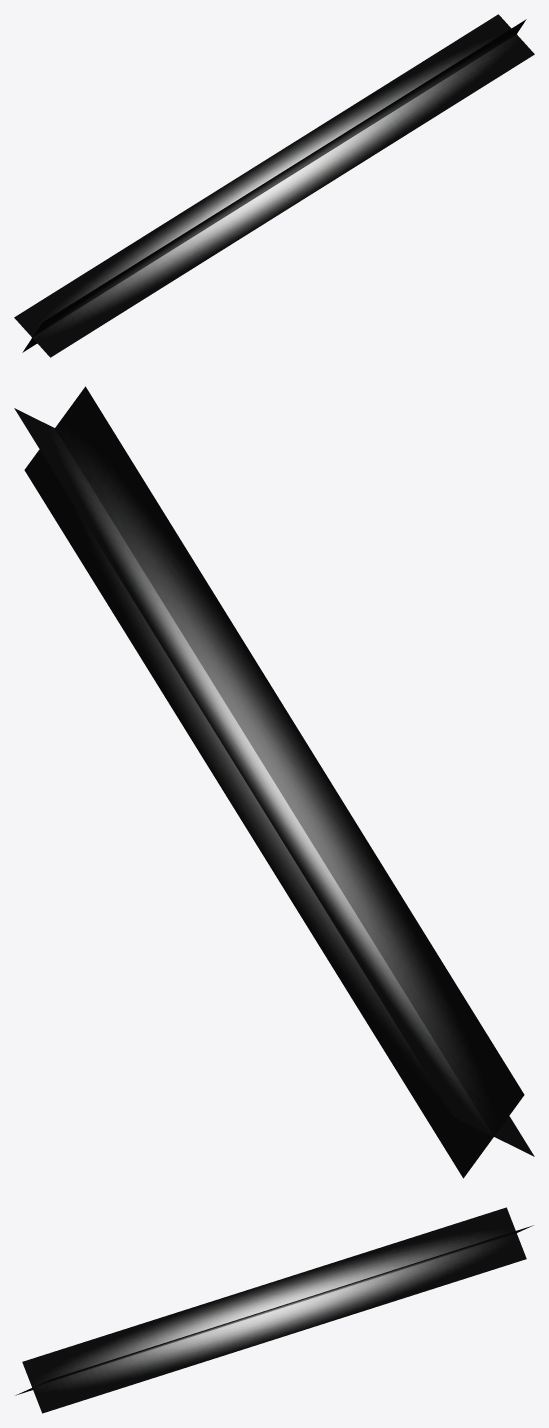
The model's file is vfx_kurp_1013.dae.
The picture shows the model from 3 angles, top to bottom: view 1: azimuth 90°, elevation 25°; view 2: azimuth 150°, elevation 25°; view 3: azimuth 270°, elevation 25°; orthographic projection. The views are drawn at different scales.
Parts seen in each view (by area): view 1: vfx_kurp_1013; view 2: vfx_kurp_1013; view 3: vfx_kurp_1013.
Boxes of the visible parts, x1=… form: vfx_kurp_1013: x1=14, y1=14, x2=534, y2=357; vfx_kurp_1013: x1=14, y1=386, x2=534, y2=1178; vfx_kurp_1013: x1=15, y1=1207, x2=533, y2=1413.
Bounding box in the file's own units: 8.17 × 7.47 × 1.83.
1 material, 1 textured.
